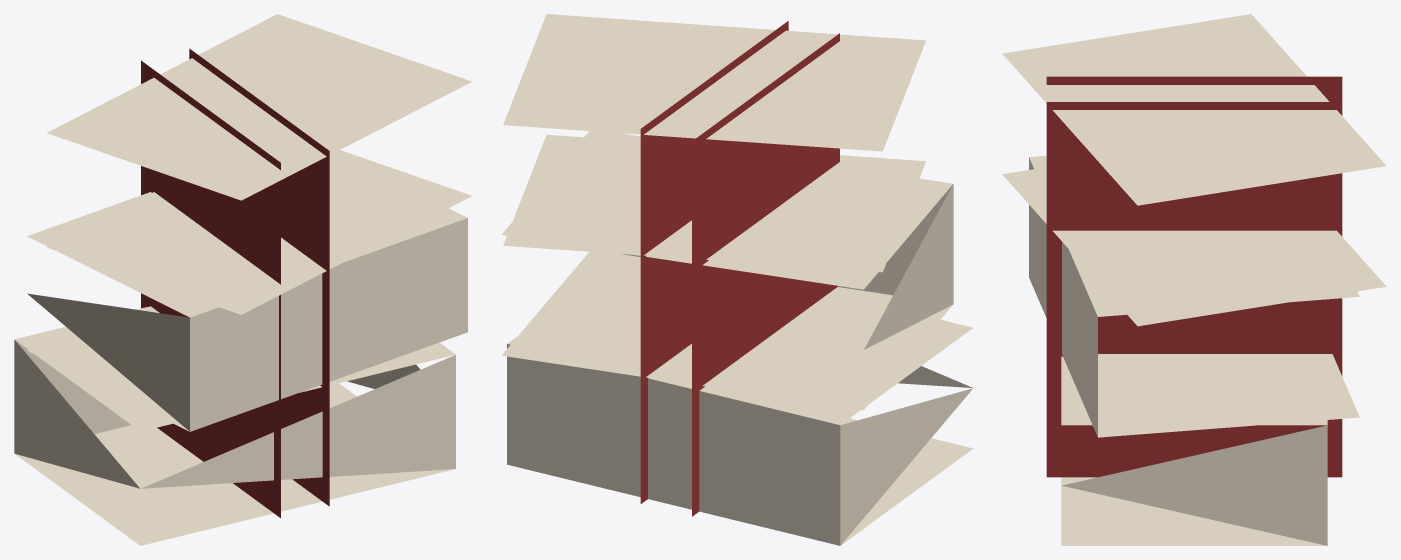
Rendered from prop_yakbongji_lod1.glb.
3 renders of one model, left to right at view 1: azimuth 30°, elevation 25°; view 2: azimuth 150°, elevation 25°; view 3: azimuth 270°, elevation 25°, orthographic. The views are drawn at different scales.
Visible parts, largest first — view 1: prop_yakbongji_lod1; view 2: prop_yakbongji_lod1; view 3: prop_yakbongji_lod1.
Part boxes in pixels (bbox=[...]): prop_yakbongji_lod1: bbox=[14, 14, 472, 545]; prop_yakbongji_lod1: bbox=[501, 14, 973, 545]; prop_yakbongji_lod1: bbox=[1002, 14, 1386, 545].
Bounding box in the file's own units: 0.1537 × 0.14 × 0.13.
